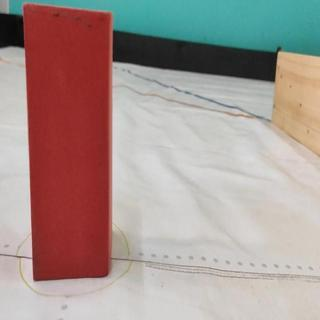redbox: (25, 3, 112, 281)
